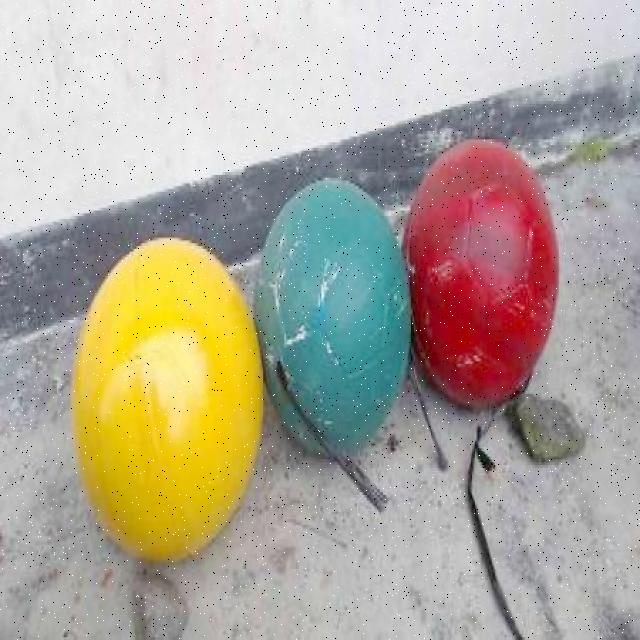buoy: (71, 236, 262, 558), (252, 176, 409, 458), (400, 137, 560, 411)
